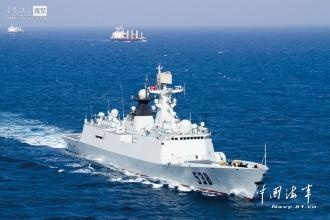Cargoship: (106, 24, 149, 43)
warship: (56, 65, 274, 202)
